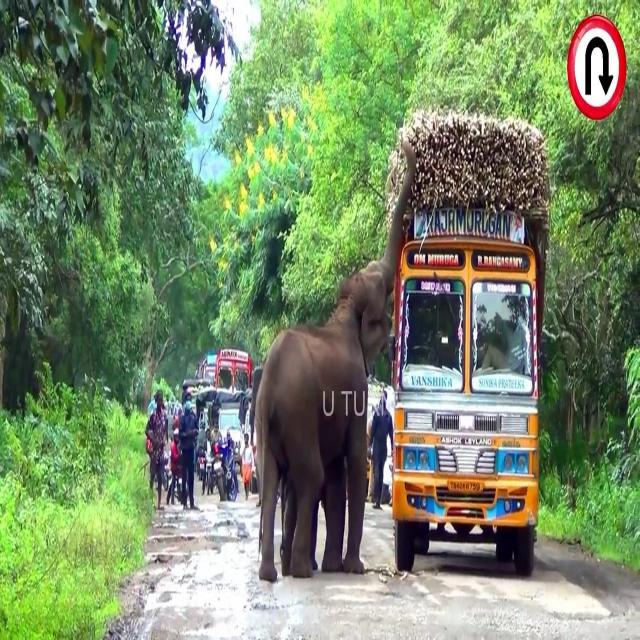Elephant: (255, 140, 417, 583)
